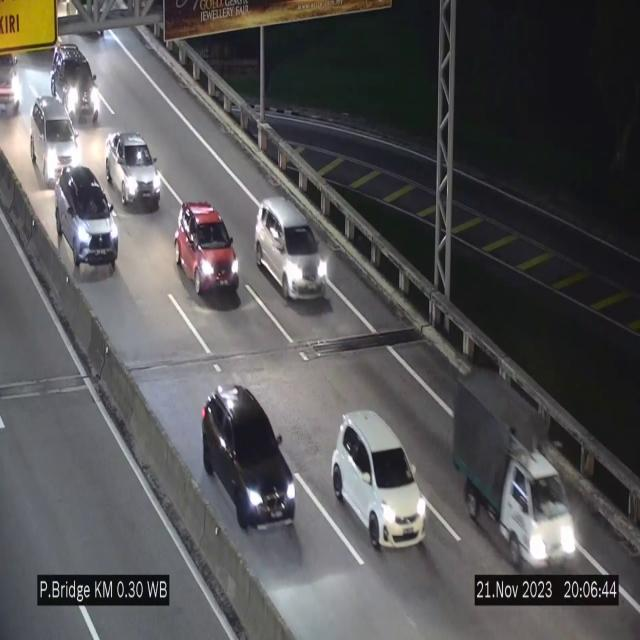Car: (202, 384, 296, 544), (332, 411, 426, 550), (255, 198, 326, 300), (55, 164, 118, 269), (175, 200, 239, 298), (24, 94, 84, 188), (50, 44, 108, 132), (105, 131, 161, 207), (0, 47, 29, 119)
Truck: (452, 369, 580, 571)
